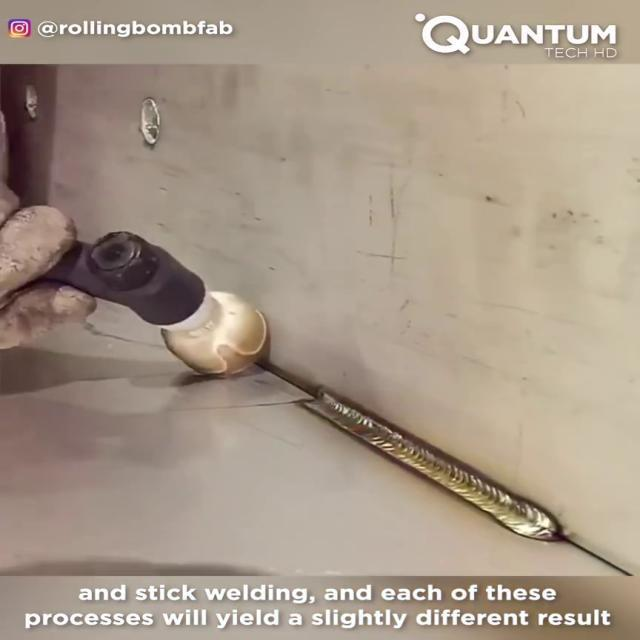Good Welding: (305, 391, 564, 541)
